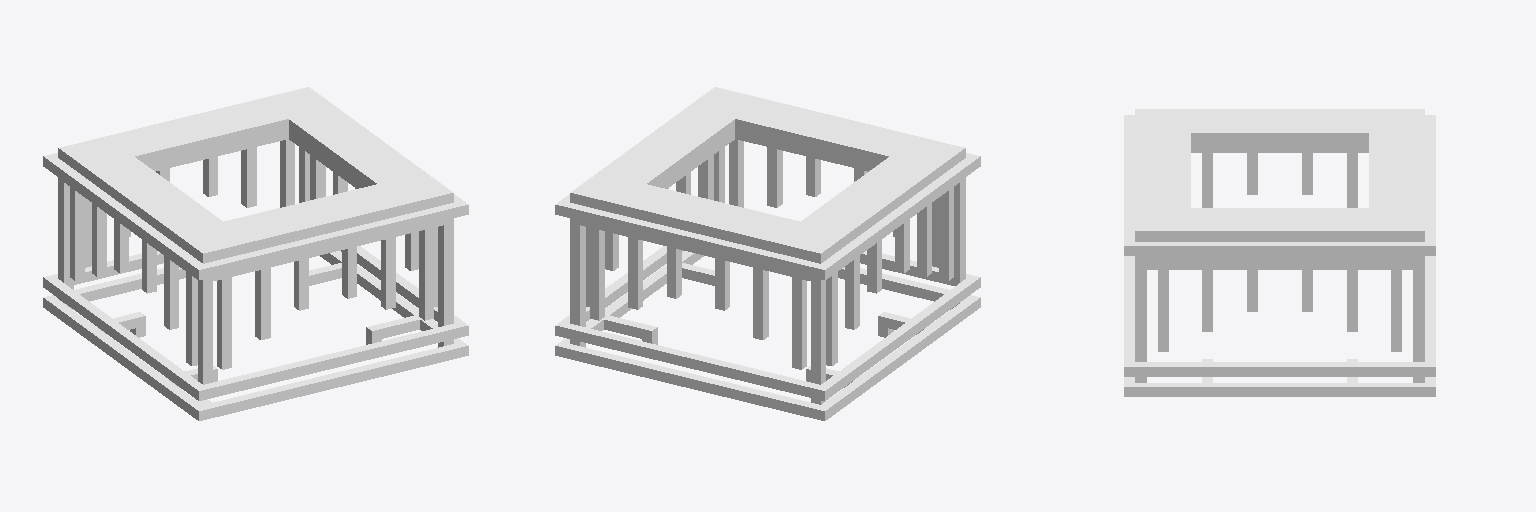
The model's file is SmallBuilding02-0.obj.
3 views of the same model, side by side, from view 1: azimuth 30°, elevation 25°; view 2: azimuth 150°, elevation 25°; view 3: azimuth 270°, elevation 25° (orthographic).
Visible parts, largest first — view 1: object 1; view 2: object 1; view 3: object 1.
Boxes of the visible parts, <box> form: object 1: <box>43,87,468,420</box>; object 1: <box>555,87,980,420</box>; object 1: <box>1124,109,1435,396</box>.
Size of the model in its own units: 2.8 by 1.7 by 2.8.